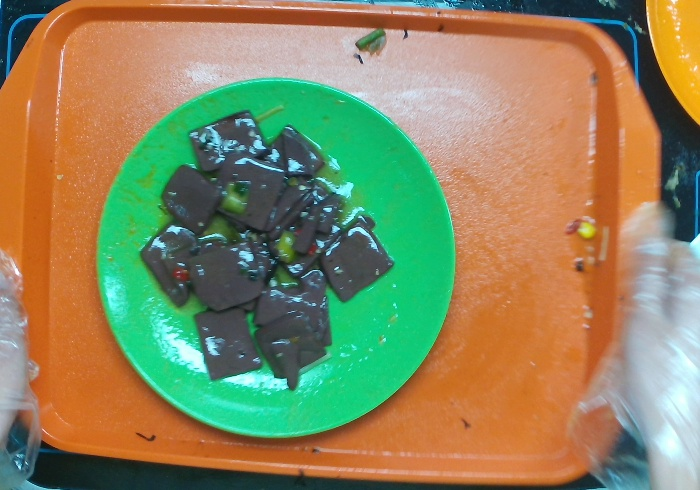HZYJPL-Lv_Se_Yuan_Pan: (93, 74, 458, 442)
